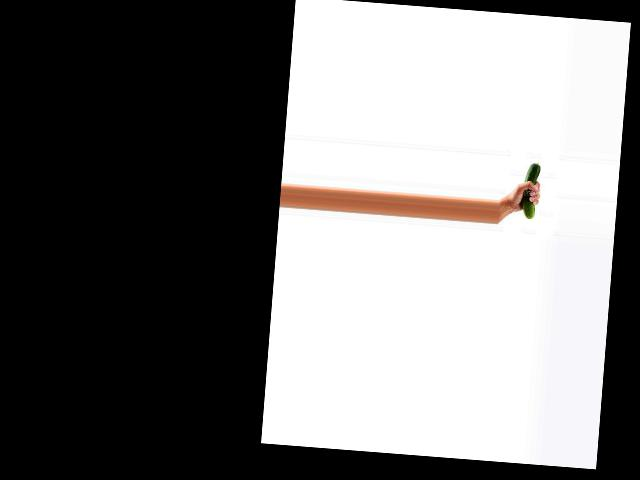cucumber: (520, 162, 541, 219)
